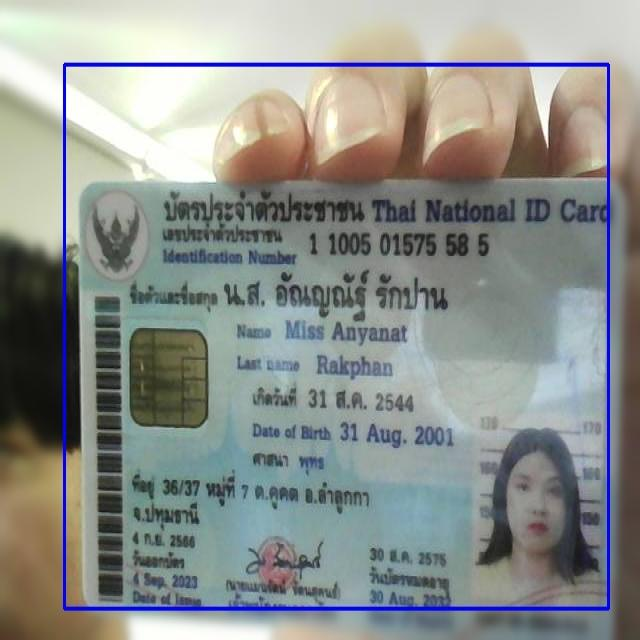Address_th: (128, 462, 373, 534)
Date_of_Birth: (337, 416, 459, 452)
Date_of_Expiry: (362, 585, 453, 615)
Date_of_Issue: (129, 569, 208, 595)
First_Name: (282, 318, 409, 350)
ID_Number: (305, 225, 495, 265)
Image: (476, 415, 600, 608)
Last_Name: (312, 351, 395, 384)
Thai_Name: (219, 264, 454, 322)
